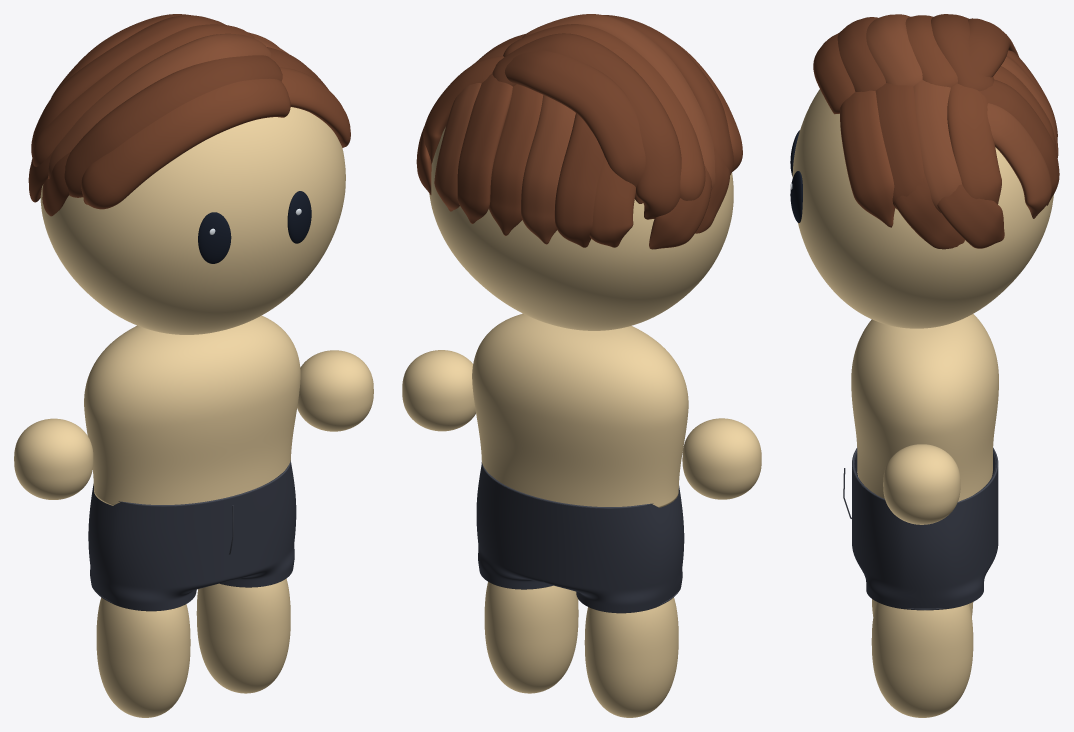
Rendered from Masculine-base.glb.
3 renders of one model, left to right at view 1: azimuth 30°, elevation 25°; view 2: azimuth 150°, elevation 25°; view 3: azimuth 270°, elevation 25°, orthographic.
Parts seen in each view (by area): view 1: Skin / soft oval head, Skin / rounded torso, Clothing / fixed shorts, Hair / Side part main 0, Skin / leg blob -1, Skin / leg blob 1, Hair / Side part main 1, Skin / orb hand -1, Skin / orb hand 1, Hair / Side part main 2, Hair / Side part main 3, Hair / Side part main 4 (+7 smaller); view 2: Skin / rounded torso, Skin / soft oval head, Clothing / fixed shorts, Skin / leg blob -1, Skin / leg blob 1, Hair / Side part crown, Hair / Side part main 4, Skin / orb hand -1, Skin / orb hand 1, Hair / Side part nape 2, Hair / Side part nape 4, Hair / Side part main 3 (+11 smaller); view 3: Skin / soft oval head, Skin / rounded torso, Clothing / fixed shorts, Skin / leg blob 1, Skin / orb hand 1, Hair / Side part short 0, Hair / Side part short 3, Hair / Side part short 1, Hair / Side part short 2, Hair / Side part nape 5, Hair / Side part main 2, Hair / Side part low 1 1 (+10 smaller).
Boxes of the visible parts, <box> form: Skin / soft oval head: <box>40,107,345,334</box>; Skin / rounded torso: <box>84,315,300,505</box>; Clothing / fixed shorts: <box>88,463,296,611</box>; Hair / Side part main 0: <box>81,78,290,209</box>; Skin / leg blob -1: <box>96,597,190,717</box>; Skin / leg blob 1: <box>196,578,290,693</box>; Hair / Side part main 1: <box>64,55,282,197</box>; Skin / orb hand -1: <box>14,418,93,499</box>; Skin / orb hand 1: <box>297,350,373,431</box>; Hair / Side part main 2: <box>48,33,271,178</box>; Hair / Side part main 3: <box>32,24,254,166</box>; Hair / Side part main 4: <box>31,15,225,156</box>; Skin / rounded torso: <box>472,313,688,507</box>; Skin / soft oval head: <box>429,127,733,330</box>; Clothing / fixed shorts: <box>476,464,684,613</box>; Skin / leg blob -1: <box>584,597,678,717</box>; Skin / leg blob 1: <box>484,582,578,693</box>; Hair / Side part crown: <box>505,50,645,203</box>; Hair / Side part main 4: <box>492,33,681,219</box>; Skin / orb hand -1: <box>682,418,761,499</box>; Skin / orb hand 1: <box>402,350,475,431</box>; Hair / Side part nape 2: <box>521,95,575,244</box>; Hair / Side part nape 4: <box>457,73,512,223</box>; Hair / Side part main 3: <box>503,24,705,200</box>; Skin / soft oval head: <box>792,89,1053,328</box>; Skin / rounded torso: <box>851,314,998,501</box>; Clothing / fixed shorts: <box>852,451,998,610</box>; Skin / leg blob 1: <box>871,602,973,717</box>; Skin / orb hand 1: <box>883,444,960,524</box>; Hair / Side part short 0: <box>840,90,895,227</box>; Hair / Side part short 3: <box>947,83,1001,204</box>; Hair / Side part short 1: <box>875,83,923,209</box>; Hair / Side part short 2: <box>913,80,962,212</box>; Hair / Side part nape 5: <box>987,103,1051,218</box>; Hair / Side part main 2: <box>866,14,922,86</box>; Hair / Side part low 1 1: <box>937,184,1004,248</box>.
Bounding box in the file's own units: 1.23 × 2.27 × 0.8319.
